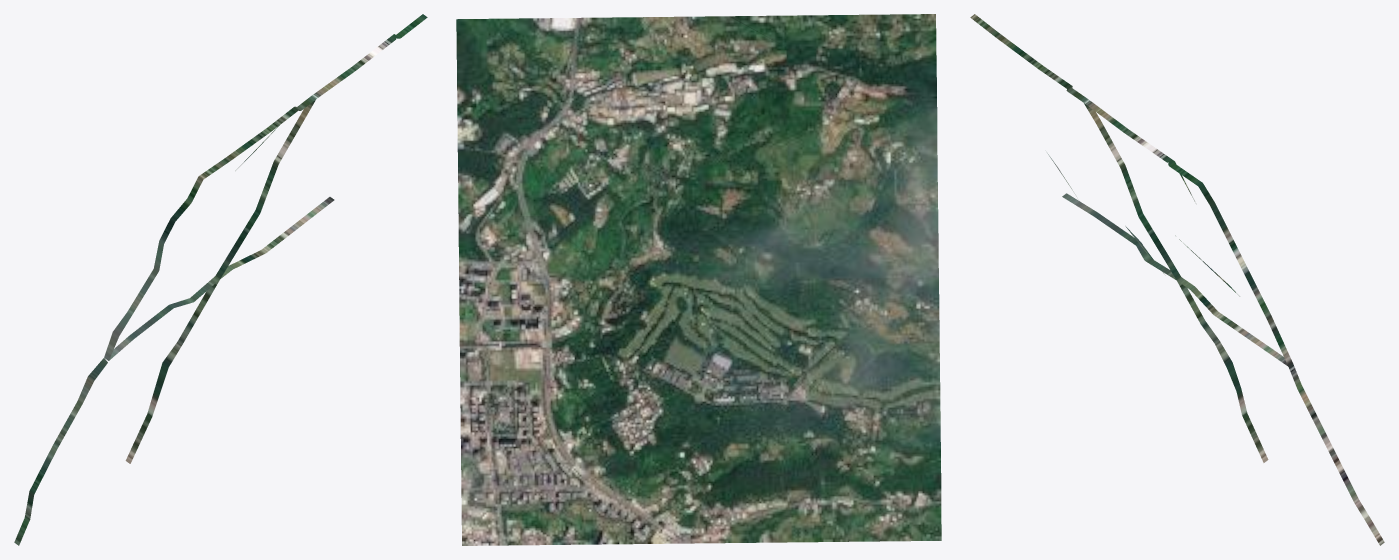
3 views of the same model, side by side, from view 1: azimuth 30°, elevation 25°; view 2: azimuth 150°, elevation 25°; view 3: azimuth 270°, elevation 25° (orthographic). The views are drawn at different scales.
Size of the model in its own units: 2465 by 2238 by 2033.
Materials: 1 (1 with a texture image).
